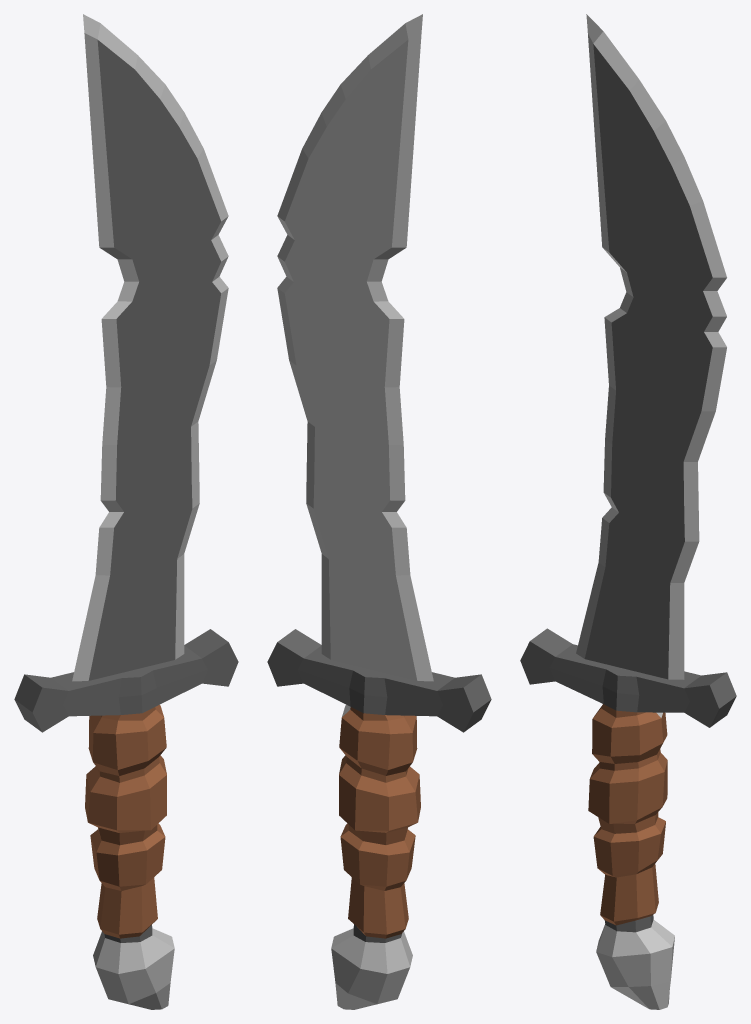
The model's file is item7.fbx.
3 views of the same model, side by side, from view 1: azimuth 30°, elevation 25°; view 2: azimuth 150°, elevation 25°; view 3: azimuth 330°, elevation 25° (orthographic). The views are drawn at different scales.
Parts seen in each view (by area): view 1: Dagger; view 2: Dagger; view 3: Dagger.
Part boxes in pixels (box(x1,y1,x2,y2)): Dagger: box(14, 14, 238, 1009); Dagger: box(267, 14, 491, 1009); Dagger: box(520, 14, 736, 1009).
Size of the model in its own units: 29.72 by 139 by 11.09.
